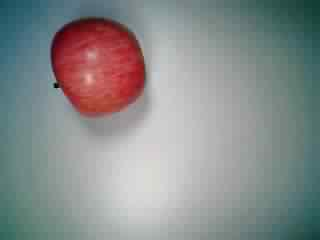apple: (45, 15, 149, 119)
